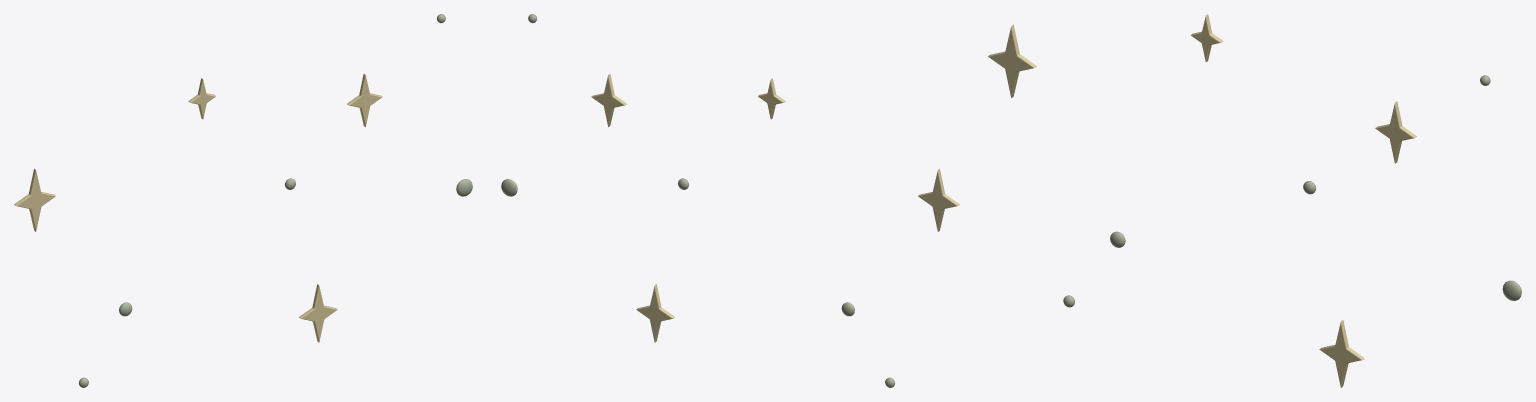
Rendered from sky_star_cluster.glb.
3 views of the same model, side by side, from view 1: azimuth 30°, elevation 25°; view 2: azimuth 150°, elevation 25°; view 3: azimuth 330°, elevation 25° (orthographic). The views are drawn at different scales.
Visible parts, largest first — view 1: StarGlint_00, StarGlint_06, StarGlint_04, StarGlint_02; view 2: StarGlint_00, StarGlint_06, StarGlint_04, StarGlint_02; view 3: StarGlint_00, StarGlint_06, StarGlint_04, StarGlint_02.
Boxes of the visible parts, box(x1,y1,x2,y2) form: StarGlint_00: box(14, 168, 55, 231); StarGlint_06: box(299, 284, 337, 342); StarGlint_04: box(347, 74, 382, 126); StarGlint_02: box(188, 78, 215, 119); StarGlint_00: box(918, 168, 959, 231); StarGlint_06: box(636, 284, 674, 342); StarGlint_04: box(591, 74, 626, 126); StarGlint_02: box(758, 78, 785, 119); StarGlint_00: box(988, 24, 1036, 97); StarGlint_06: box(1319, 320, 1364, 387); StarGlint_04: box(1375, 101, 1416, 163); StarGlint_02: box(1191, 14, 1222, 61).
Bounding box in the file's own units: 1.97 × 1.23 × 0.032.
